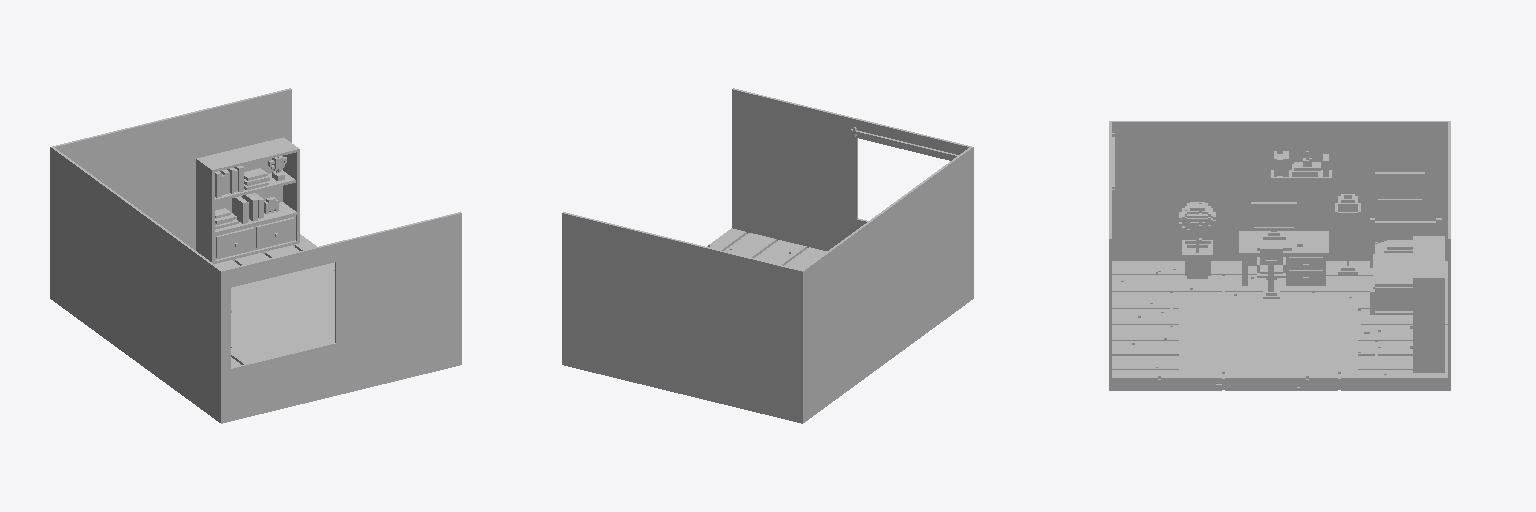
Rendered from room-ludum-dare 2.obj.
The picture shows the model from 3 angles: view 1: azimuth 30°, elevation 25°; view 2: azimuth 150°, elevation 25°; view 3: azimuth 270°, elevation 25°; orthographic projection.
Size of the model in its own units: 96 by 58 by 118.